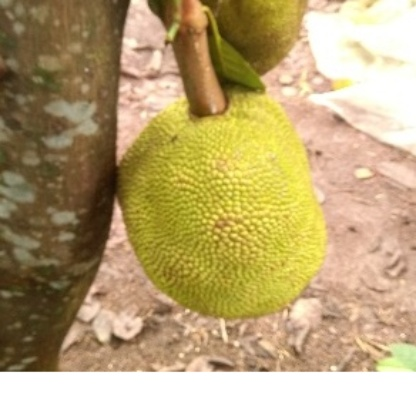mit: (121, 74, 330, 313)
